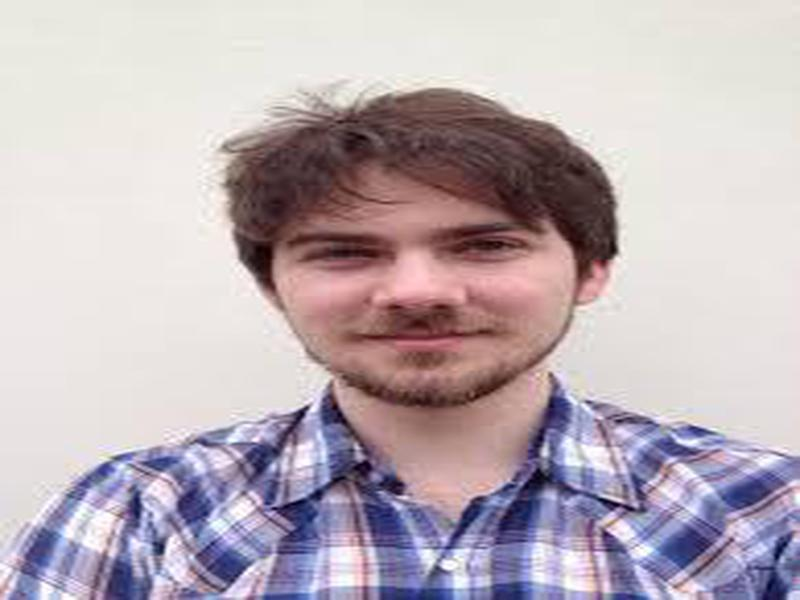without_mask: (268, 163, 580, 408)
